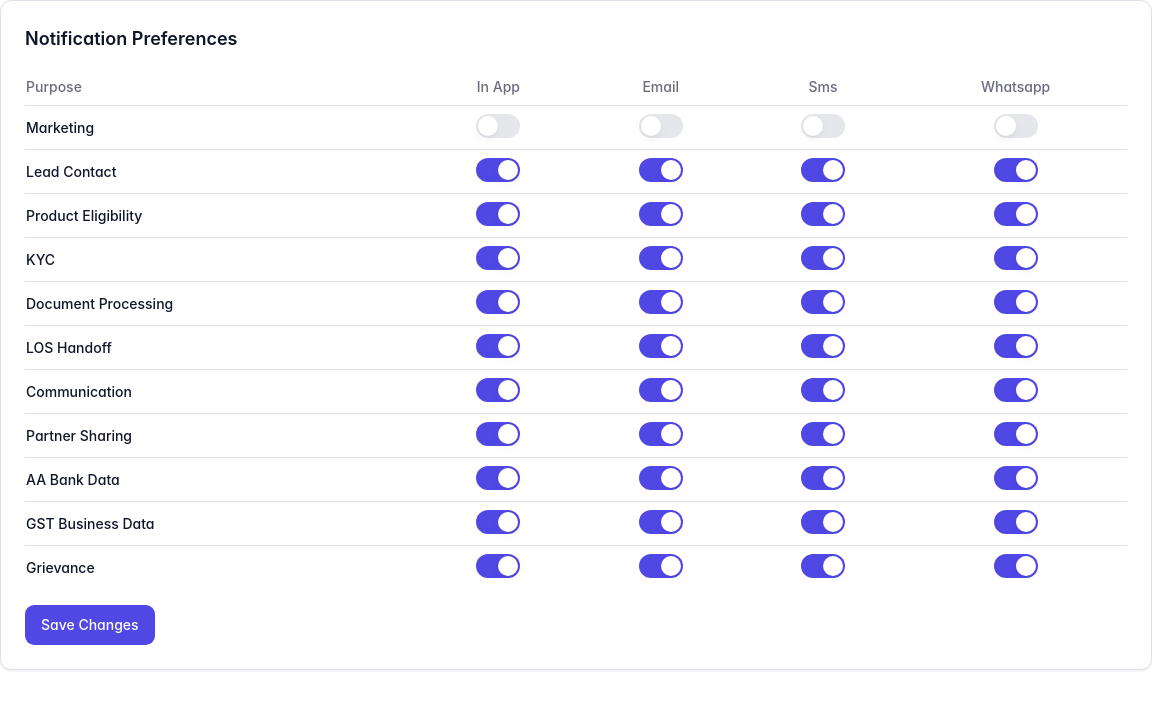
Test: PreferenceCentre (FR-103) › T14 — shows transactional opt-out warning in the UI
# Toggle kyc/email off.
Click the switch named "email notifications for kyc" at (661, 258), box [639,246,683,270]
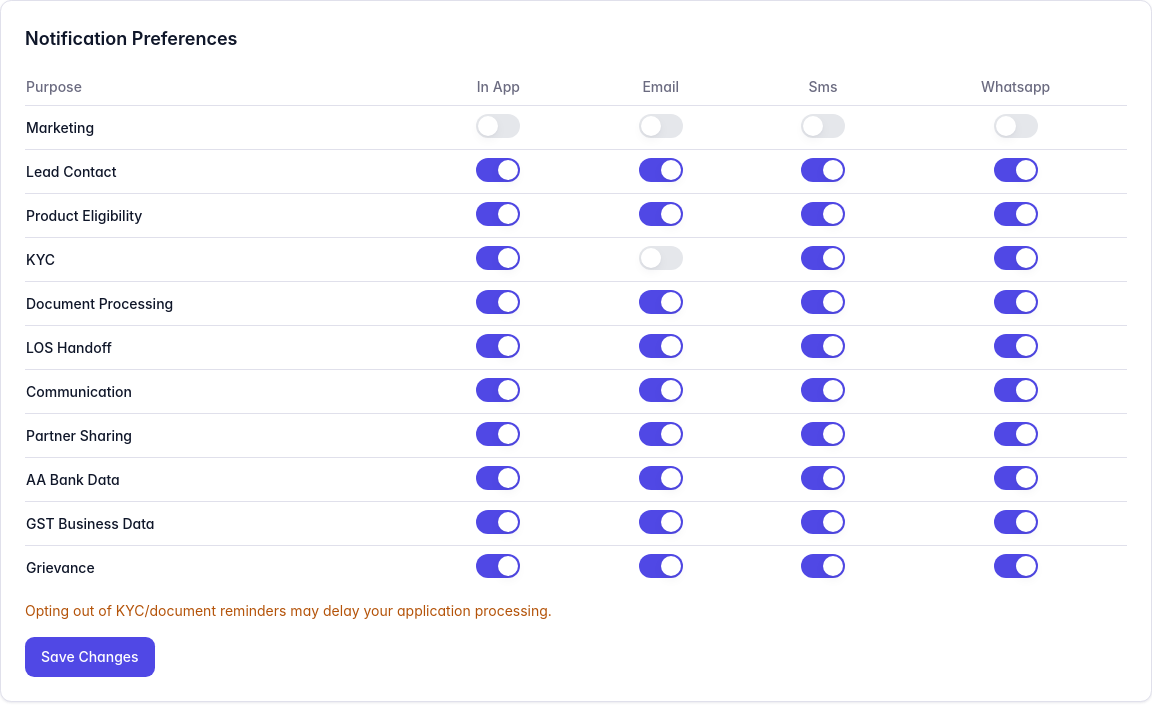
Check: the text "KYC/document reminders" is shown, box [25,602,552,619]
